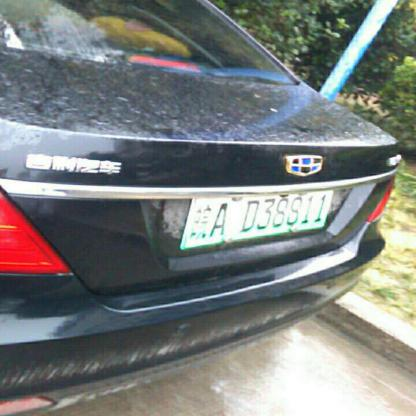lp: (183, 192, 334, 247)
